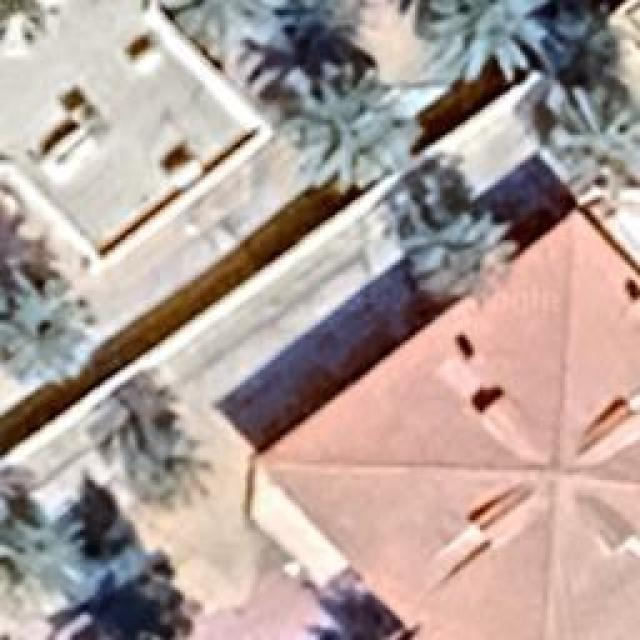PalmTree: (61, 57, 155, 464), (282, 70, 410, 182), (0, 470, 88, 625), (542, 82, 638, 202), (418, 0, 548, 88), (400, 208, 518, 302), (0, 282, 95, 388), (167, 0, 348, 47), (283, 0, 367, 41)
